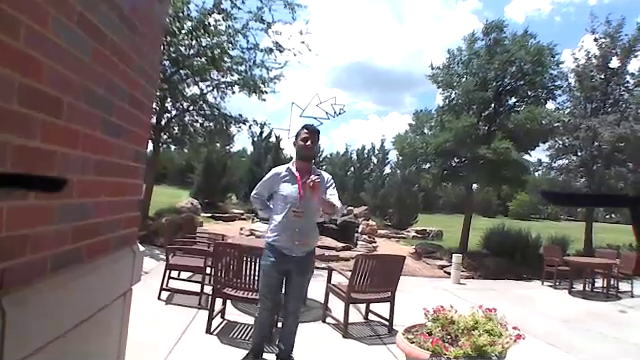up: (304, 162, 324, 197)
